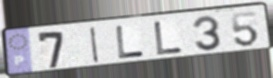3: (191, 14, 224, 52)
5: (229, 9, 261, 48)
7: (36, 30, 65, 69)
I: (88, 25, 101, 65)
L: (152, 20, 185, 57), (114, 24, 146, 60)
